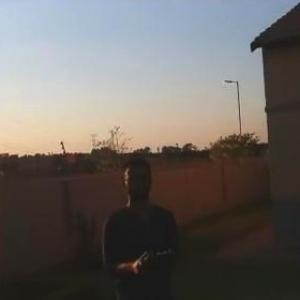follow: (99, 154, 188, 299)
